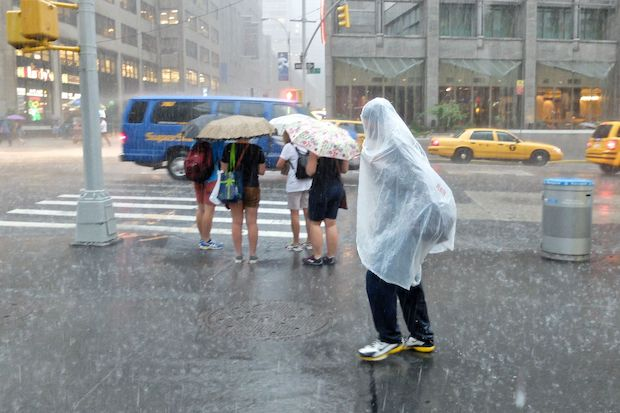person: (222, 138, 264, 263), (306, 154, 347, 270)
